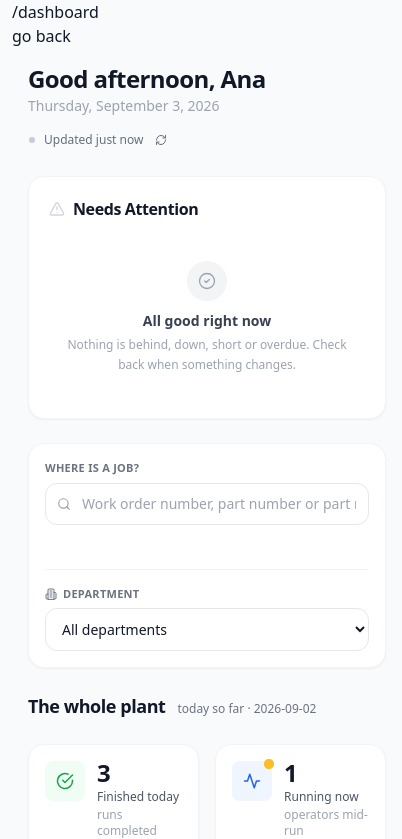
Test: the scope is in the URL, so it can be shared and walked back › puts the chosen department in the address bar
Select "Welding" in the dropdown labelled "Department" at (207, 630), box [45,608,369,651]
(page scrolled)
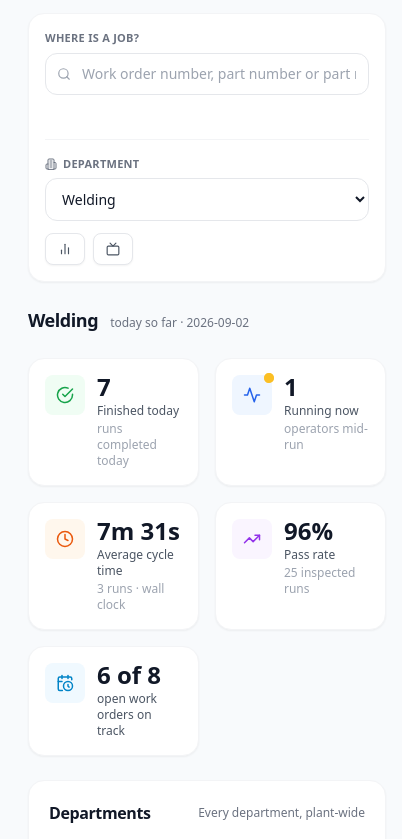
Now the element with test id "kpi-finished-today" shows "7", box [97,370,111,403]
